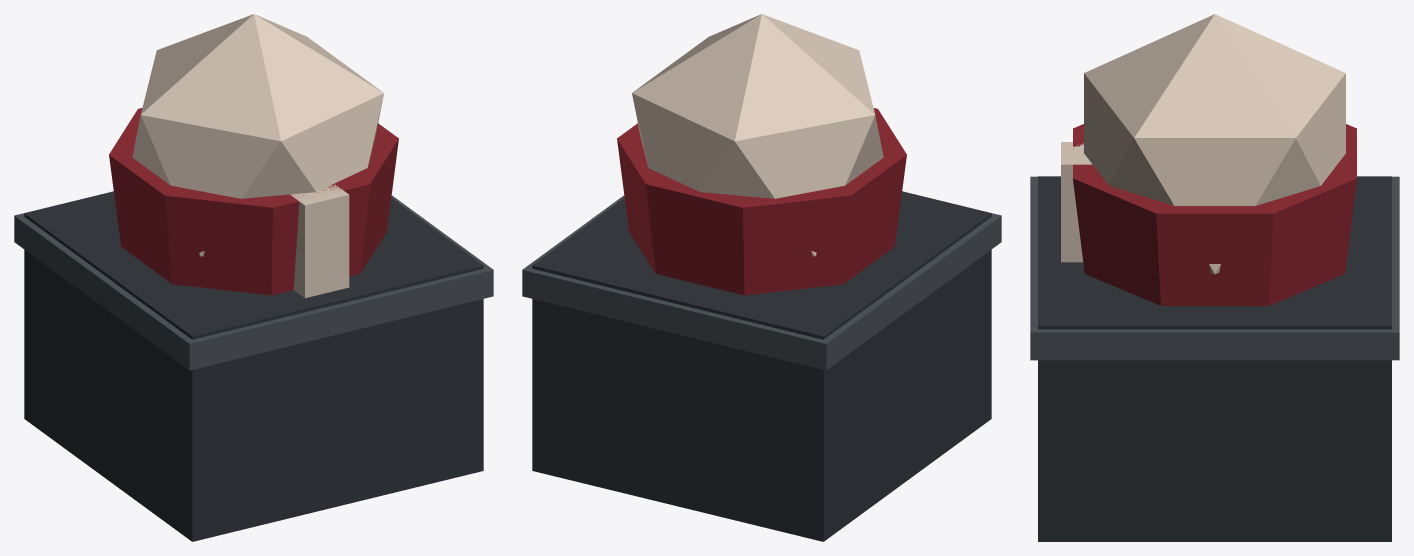
File: inf_v2_runner_lower_leg.fbx
3 views of the same model, side by side, from view 1: azimuth 30°, elevation 25°; view 2: azimuth 150°, elevation 25°; view 3: azimuth 270°, elevation 25° (orthographic). The views are drawn at different scales.
Parts seen in each view (by area): view 1: inf_v2_runner_lower_leg; view 2: inf_v2_runner_lower_leg; view 3: inf_v2_runner_lower_leg.
Boxes of the visible parts, x1,y1,x2,y2 form: inf_v2_runner_lower_leg: (14,14,493,541); inf_v2_runner_lower_leg: (522,14,1001,541); inf_v2_runner_lower_leg: (1030,14,1399,541).
Size of the model in its own units: 96 by 130 by 96.
